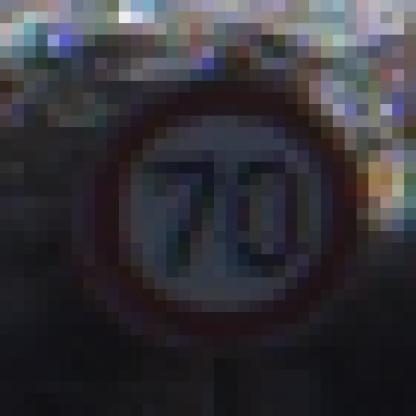Speed Limit 70: (102, 86, 352, 331)
